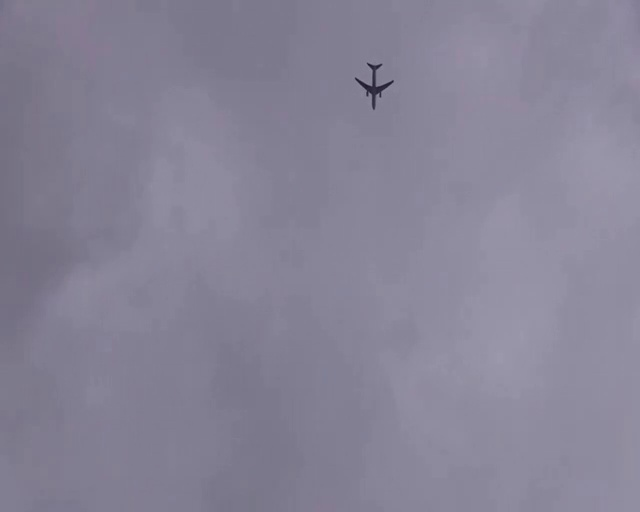AIRPLANE: (354, 61, 394, 110)
